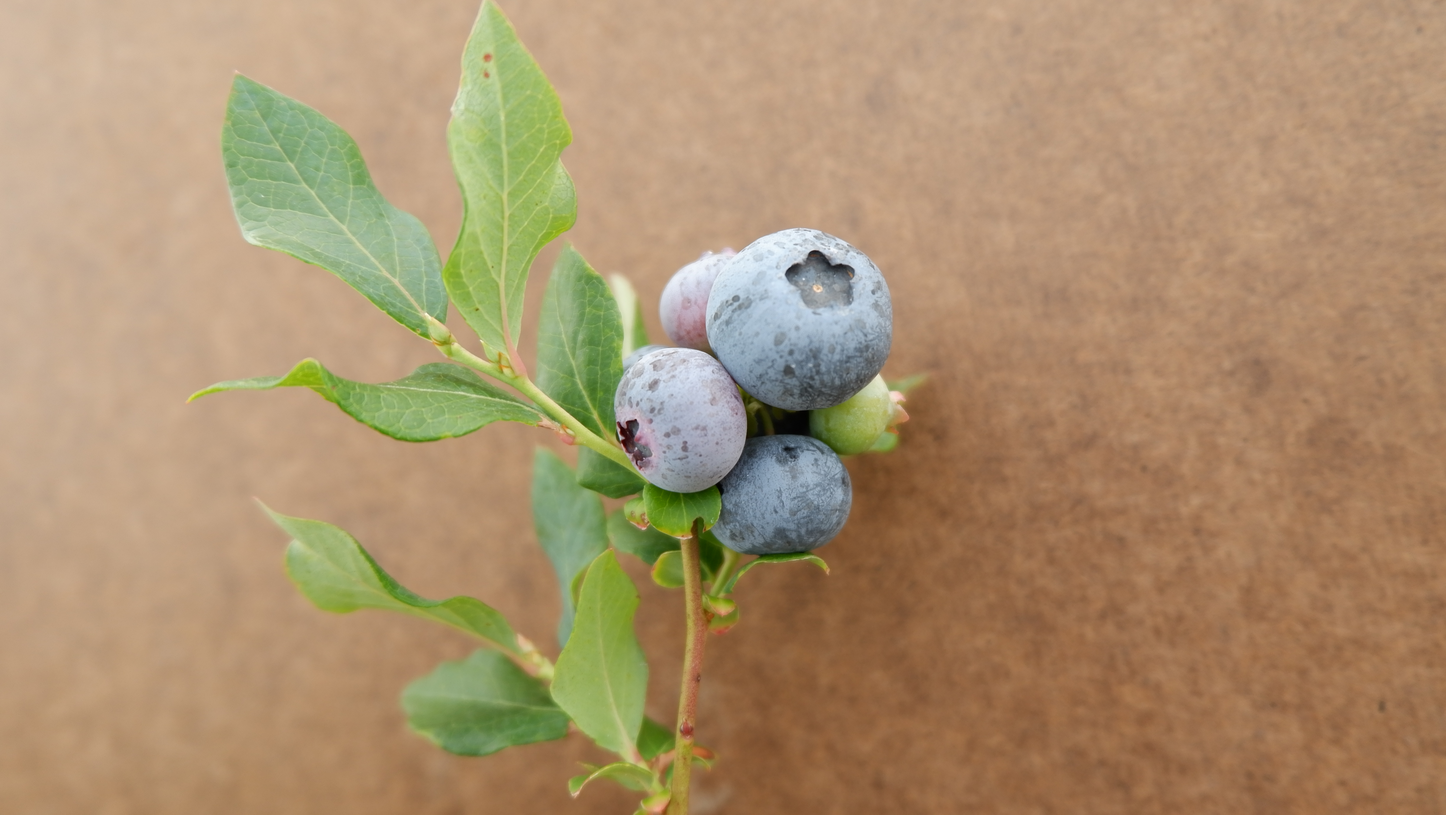Immature: (807, 374, 911, 454)
Mature: (706, 226, 891, 410), (614, 347, 749, 494), (710, 433, 853, 556), (660, 249, 739, 360), (623, 346, 665, 373)
